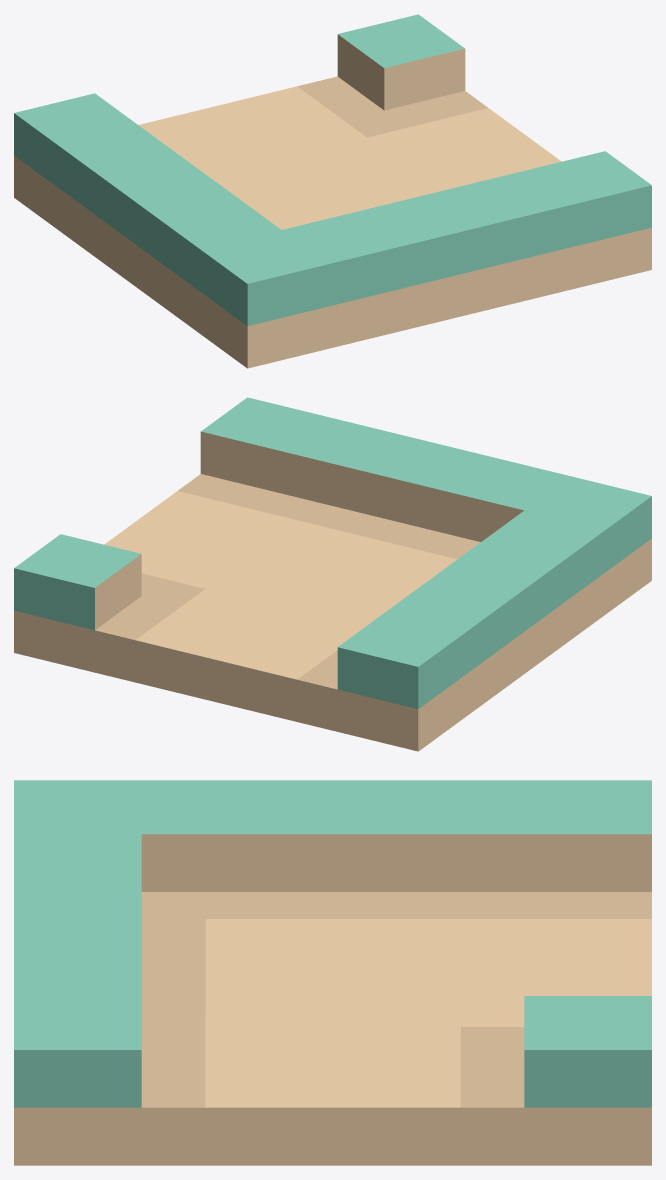
The model's file is Way_Corner.fbx.
3 views of the same model, one above another, from view 1: azimuth 30°, elevation 25°; view 2: azimuth 150°, elevation 25°; view 3: azimuth 270°, elevation 25° (orthographic). The views are drawn at different scales.
Visible parts, largest first — view 1: Way_Corner; view 2: Way_Corner; view 3: Way_Corner.
Boxes of the visible parts, <box> form: Way_Corner: <box>14,14,651,368</box>; Way_Corner: <box>14,397,651,751</box>; Way_Corner: <box>14,780,651,1165</box>.
Bounding box in the file's own units: 1 × 0.2 × 1.
